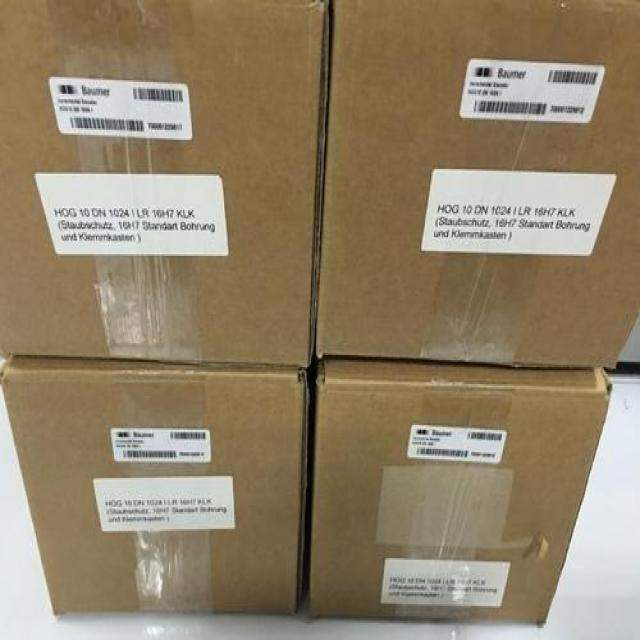box: (0, 4, 328, 380), (312, 3, 640, 368), (310, 347, 605, 627), (0, 362, 314, 623)
